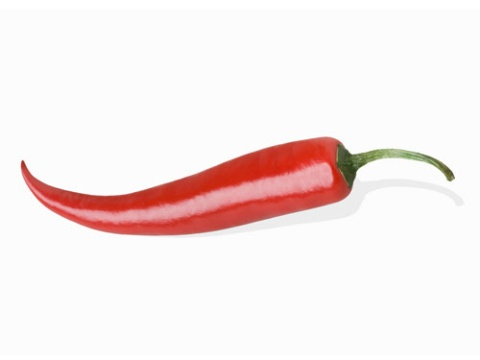Chilli: (11, 129, 465, 239)
